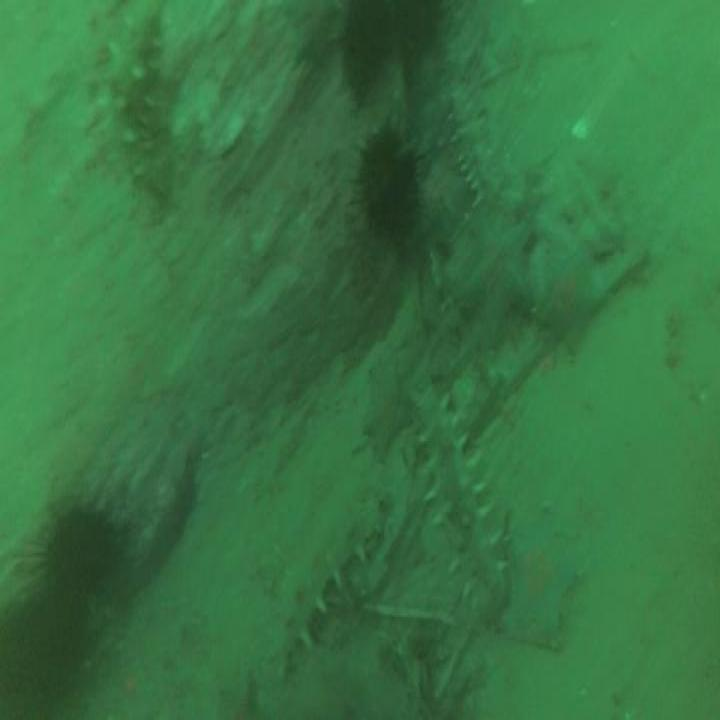echinus: (360, 129, 415, 234), (54, 505, 112, 592)
holothurian: (413, 386, 502, 597), (278, 494, 377, 679), (108, 5, 165, 183), (447, 89, 503, 203)
scallop: (572, 114, 591, 140)
starfish: (508, 509, 578, 644), (461, 219, 533, 341), (538, 251, 604, 348), (365, 370, 402, 453)
